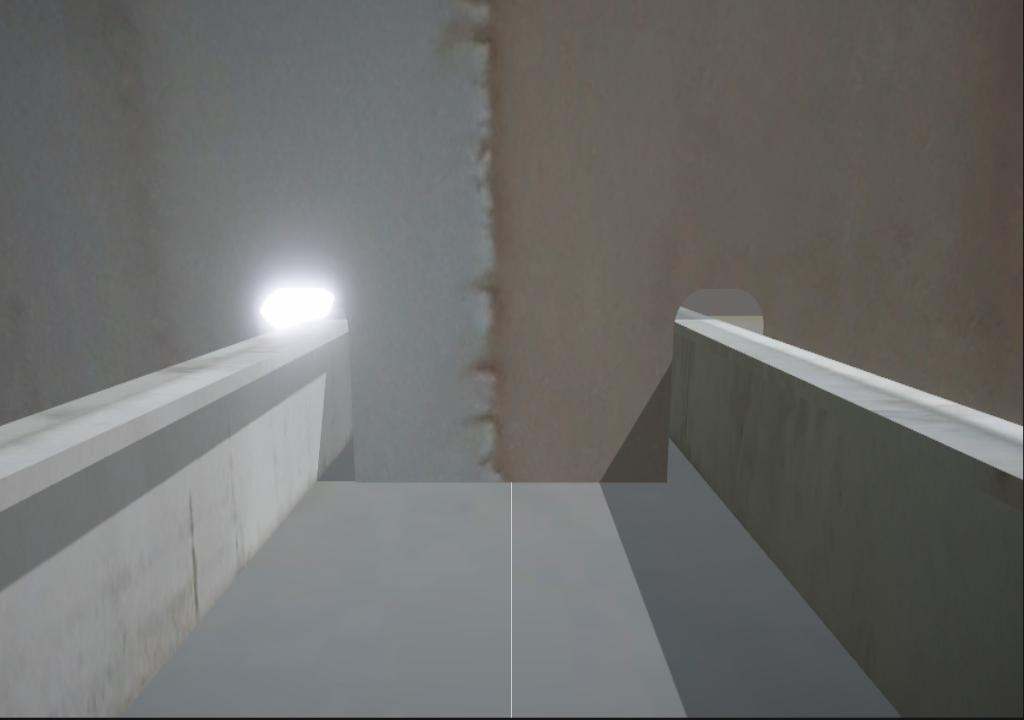fillet_yong_jeop_jang: (342, 466, 669, 493)
